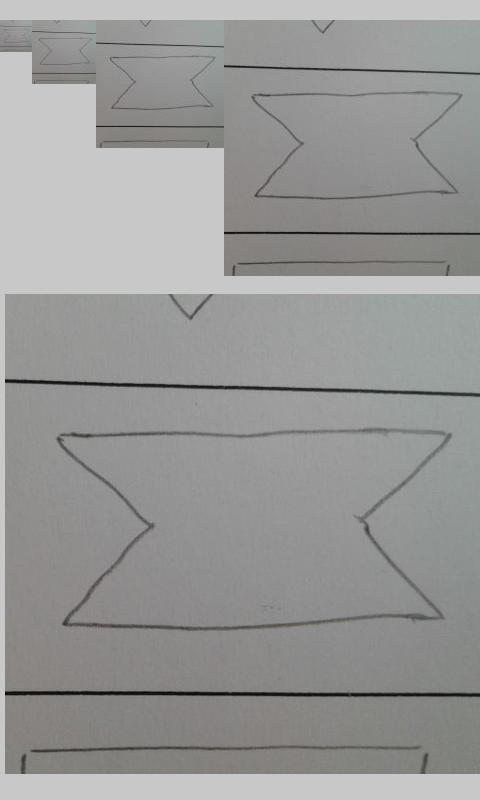edit_text: (56, 426, 451, 635), (249, 89, 462, 201), (109, 55, 217, 110), (38, 37, 92, 66), (3, 28, 31, 43)
